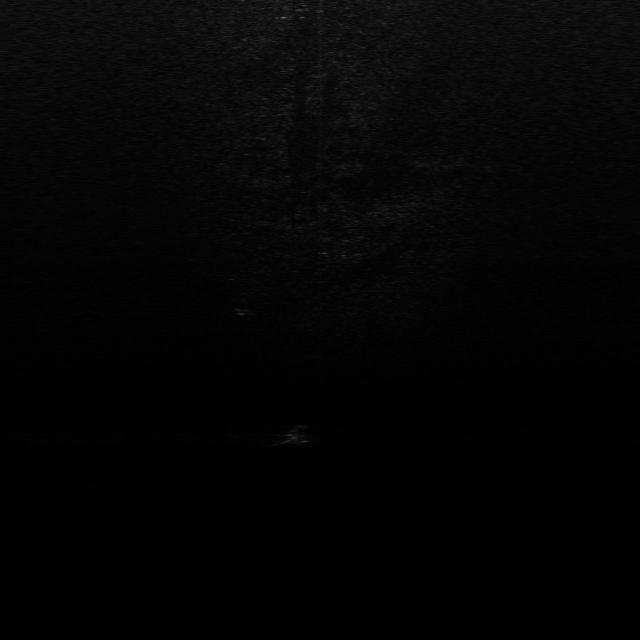ball: (282, 424, 314, 445)
circle cage: (232, 299, 253, 317)
